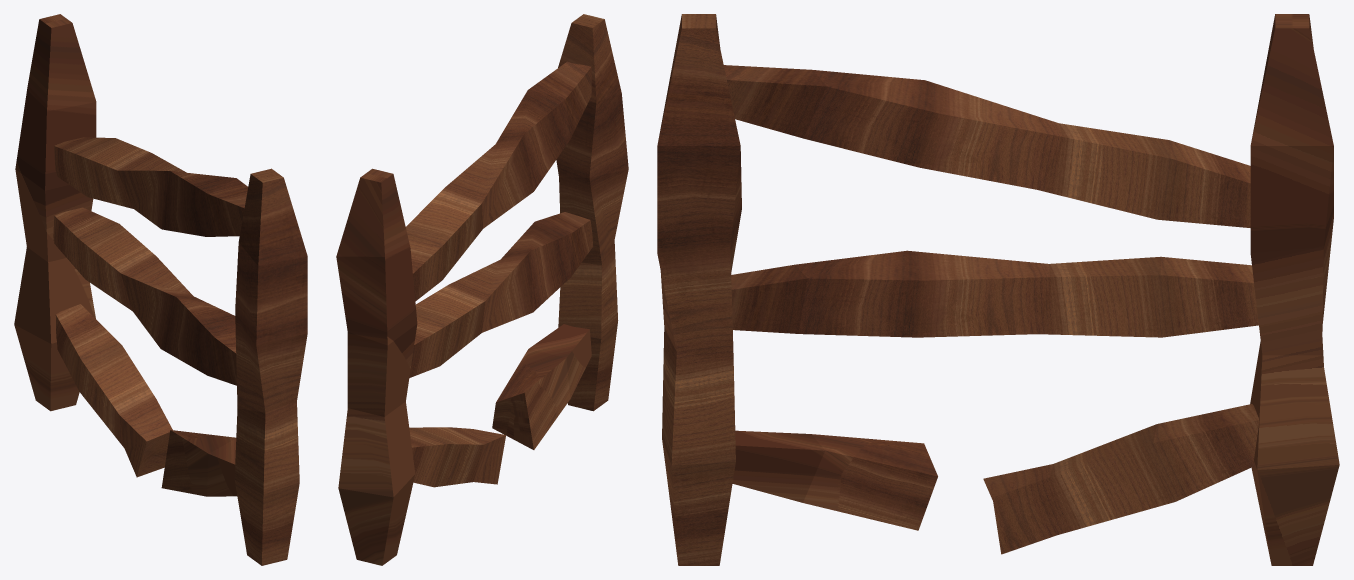
File: fence_2.fbx
3 renders of one model, left to right at view 1: azimuth 30°, elevation 25°; view 2: azimuth 150°, elevation 25°; view 3: azimuth 270°, elevation 25°, orthographic. The views are drawn at different scales.
Parts seen in each view (by area): view 1: Cube; view 2: Cube; view 3: Cube.
Boxes of the visible parts, x1,y1,x2,y2 form: Cube: (14,14,307,565); Cube: (336,14,628,565); Cube: (657,14,1339,565).
Bounding box in the file's own units: 14.89 × 92.87 × 107.
Materials: 1 (1 with a texture image).
